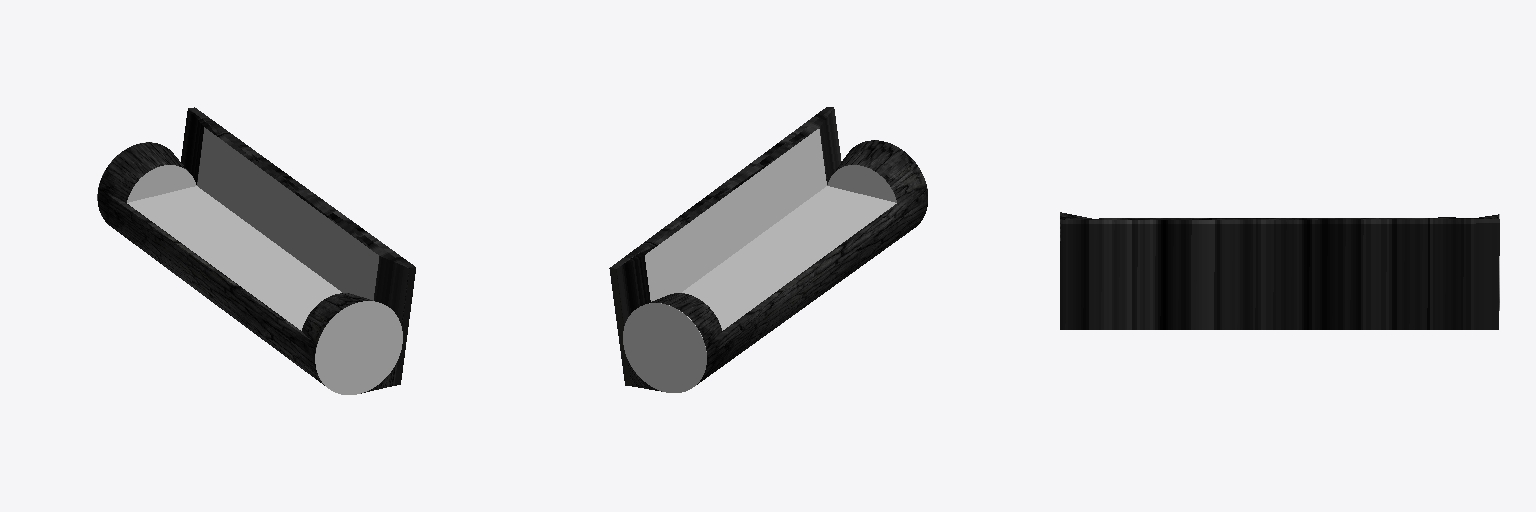
3 views of the same model, side by side, from view 1: azimuth 30°, elevation 25°; view 2: azimuth 150°, elevation 25°; view 3: azimuth 270°, elevation 25° (orthographic).
Visible parts, largest first — view 1: Cylinder.001; view 2: Cylinder.001; view 3: Cylinder.001.
Part boxes in pixels (left/top/right/bottom): Cylinder.001: left=97, top=107, right=415, bottom=394; Cylinder.001: left=609, top=107, right=927, bottom=392; Cylinder.001: left=1060, top=212, right=1499, bottom=329.
Size of the model in its own units: 2.19 by 2.38 by 8.22.
Materials: 2 (1 with a texture image).